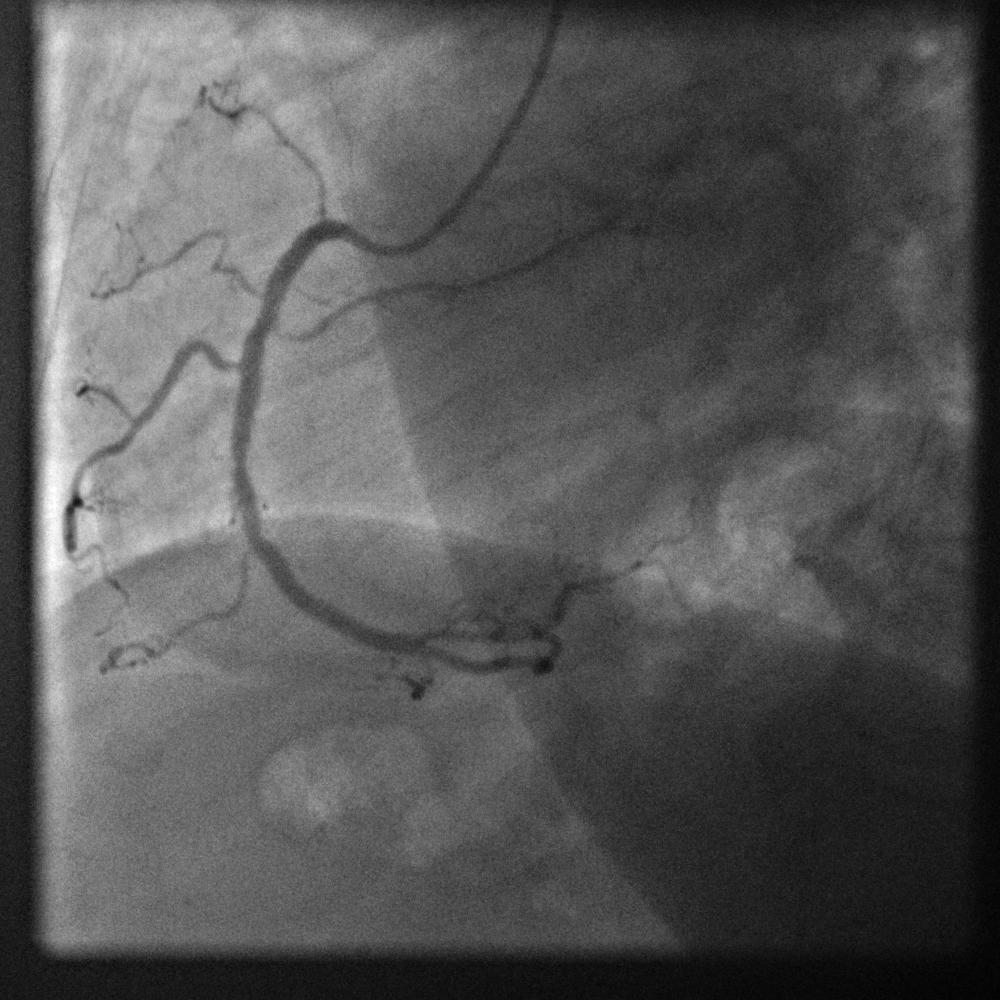Stenosis: (238, 282, 283, 338)
